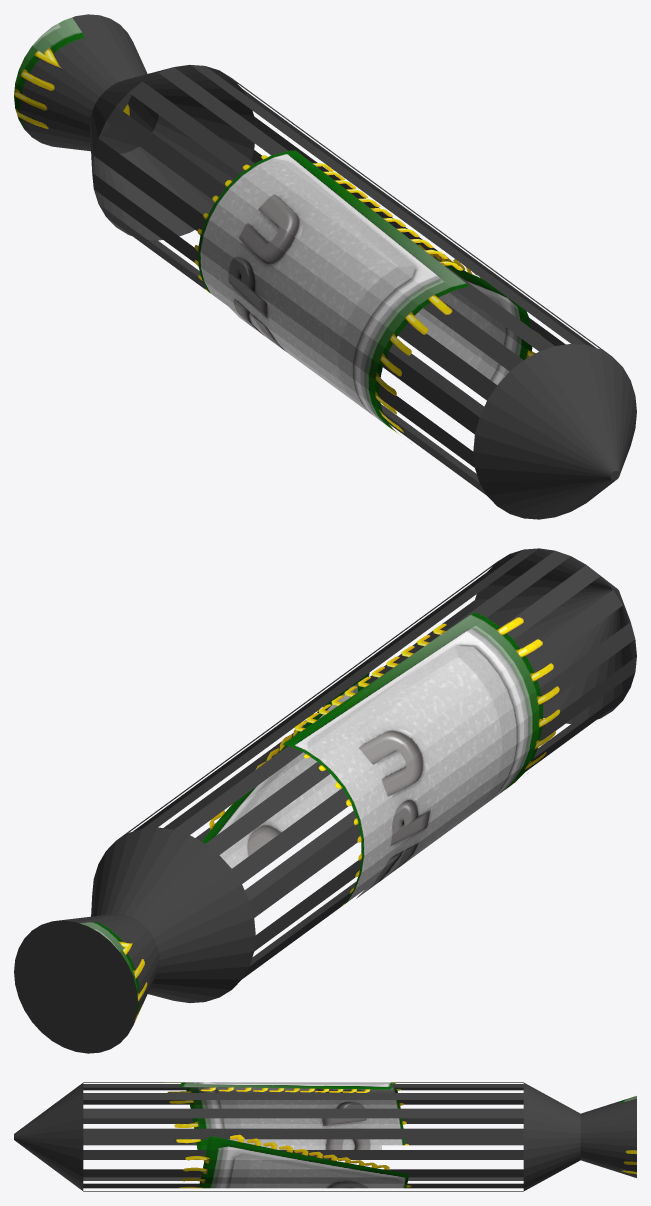
File: rocket.obj
3 views of the same model, one above another, from view 1: azimuth 30°, elevation 25°; view 2: azimuth 150°, elevation 25°; view 3: azimuth 270°, elevation 25° (orthographic). The views are drawn at different scales.
Parts seen in each view (by area): view 1: Cylinder; view 2: Cylinder; view 3: Cylinder.
Part boxes in pixels (x1,y1,x2,y2): Cylinder: (14, 14, 636, 519); Cylinder: (14, 548, 636, 1053); Cylinder: (14, 1082, 636, 1191).
Size of the model in its own units: 2 by 2 by 11.41.
